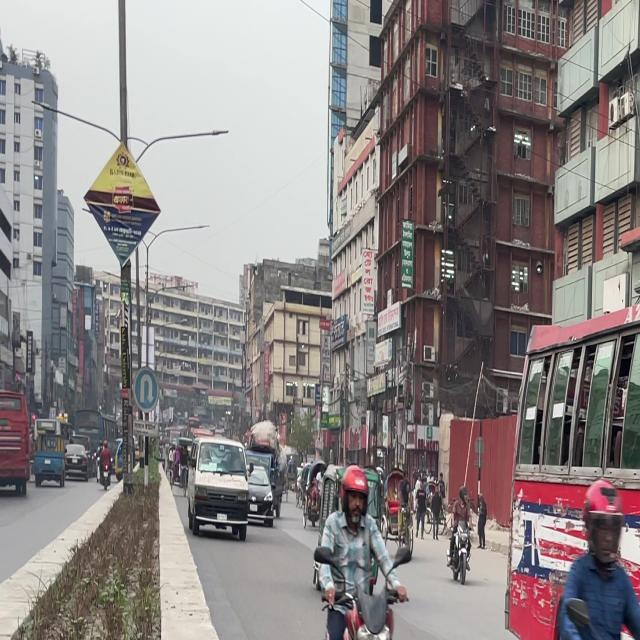bus: (487, 222, 640, 640)
car: (179, 419, 257, 544)
motorbike: (308, 528, 422, 640), (443, 506, 475, 586), (96, 442, 118, 492)
